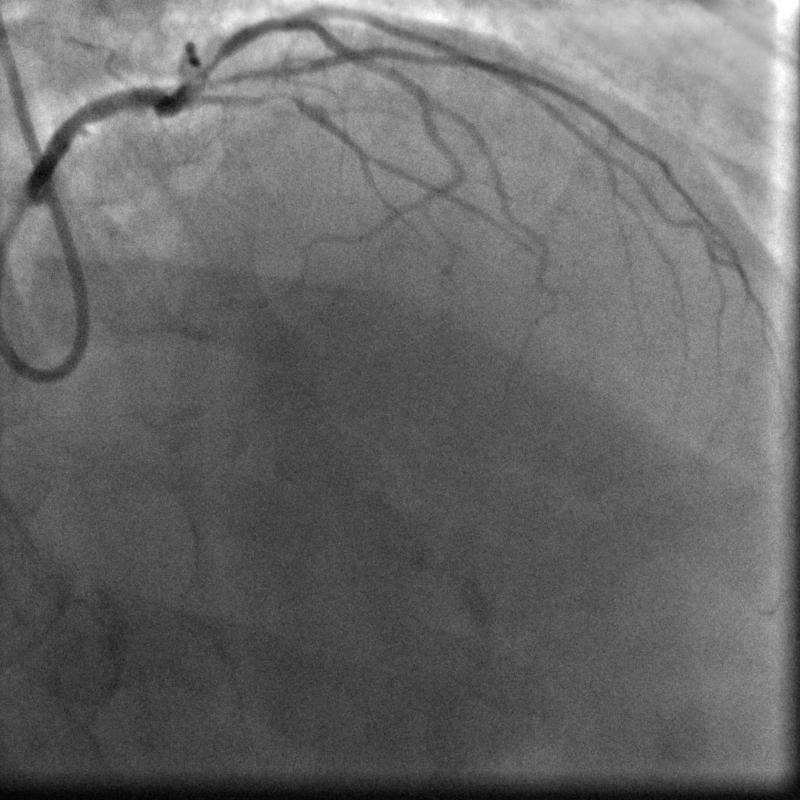Stenosis: (192, 50, 229, 78)
